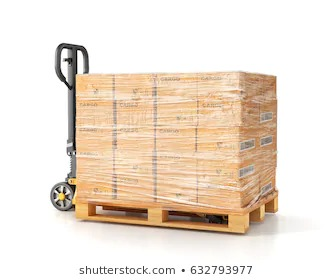box: (77, 77, 278, 203), (200, 175, 262, 205), (199, 155, 265, 175), (116, 174, 160, 201), (117, 148, 160, 172), (78, 149, 118, 174), (158, 177, 202, 199), (77, 174, 117, 198), (163, 149, 194, 177), (80, 75, 116, 97)
pallet: (74, 201, 288, 236)
